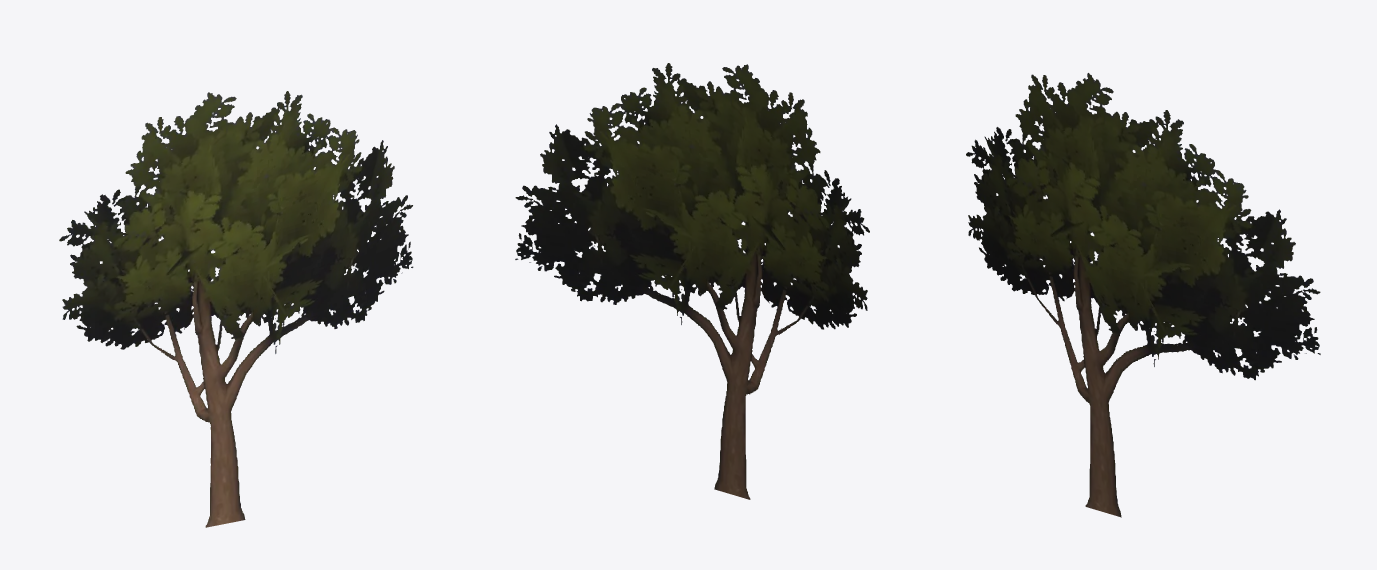
3 renders of one model, left to right at view 1: azimuth 30°, elevation 25°; view 2: azimuth 150°, elevation 25°; view 3: azimuth 330°, elevation 25°, orthographic.
Visible parts, largest first — view 1: body0_model0_lod0_mesh0; view 2: body0_model0_lod0_mesh0; view 3: body0_model0_lod0_mesh0.
Part boxes in pixels (x1,y1,x2,y2): body0_model0_lod0_mesh0: (59,91,413,527); body0_model0_lod0_mesh0: (515,63,869,499); body0_model0_lod0_mesh0: (966,73,1320,517).
Bounding box in the file's own units: 29.46 × 28.56 × 2.51.
1 material, 1 textured.
